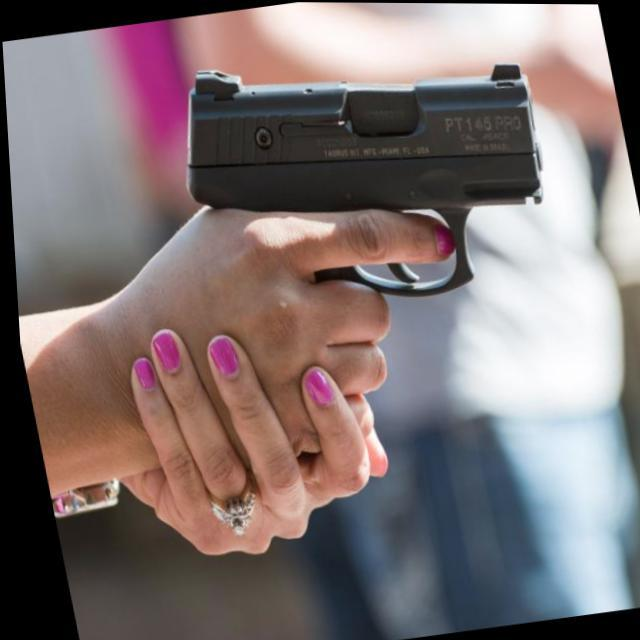weapon: (160, 22, 568, 328)
